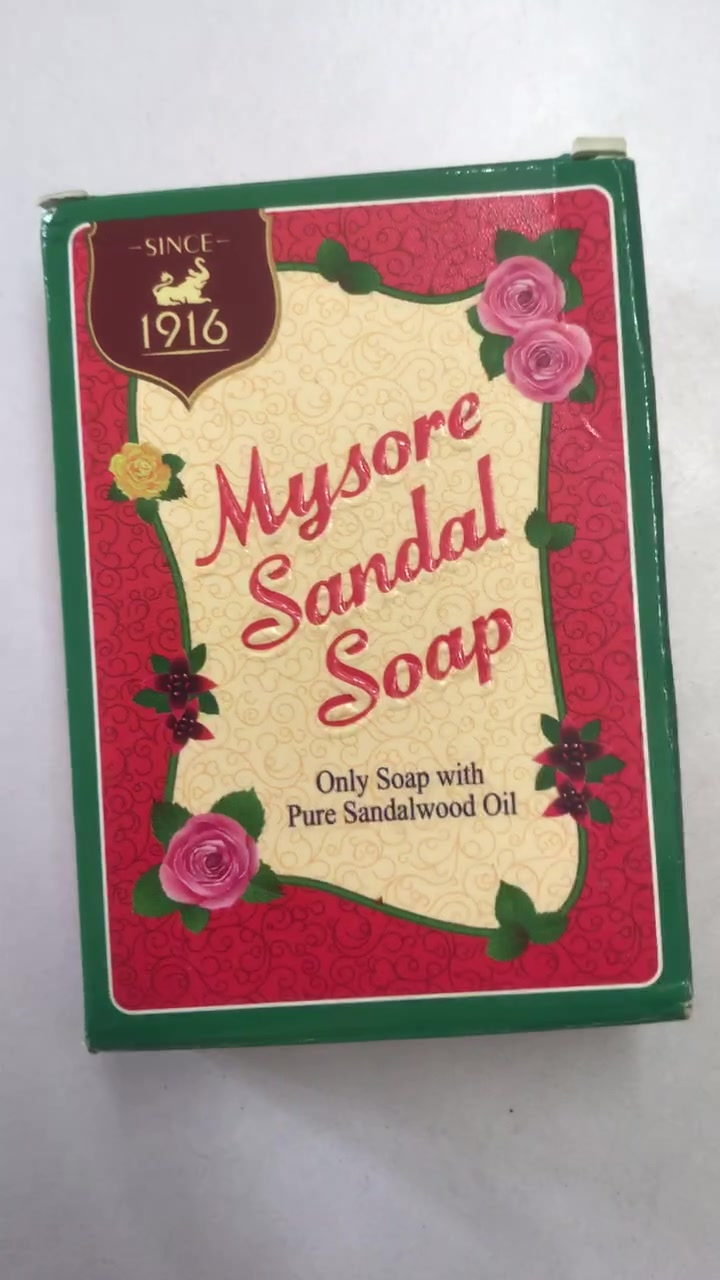mysore sandal soap: (49, 200, 687, 1024)
